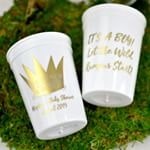cups: (4, 29, 90, 143), (80, 2, 148, 111)
